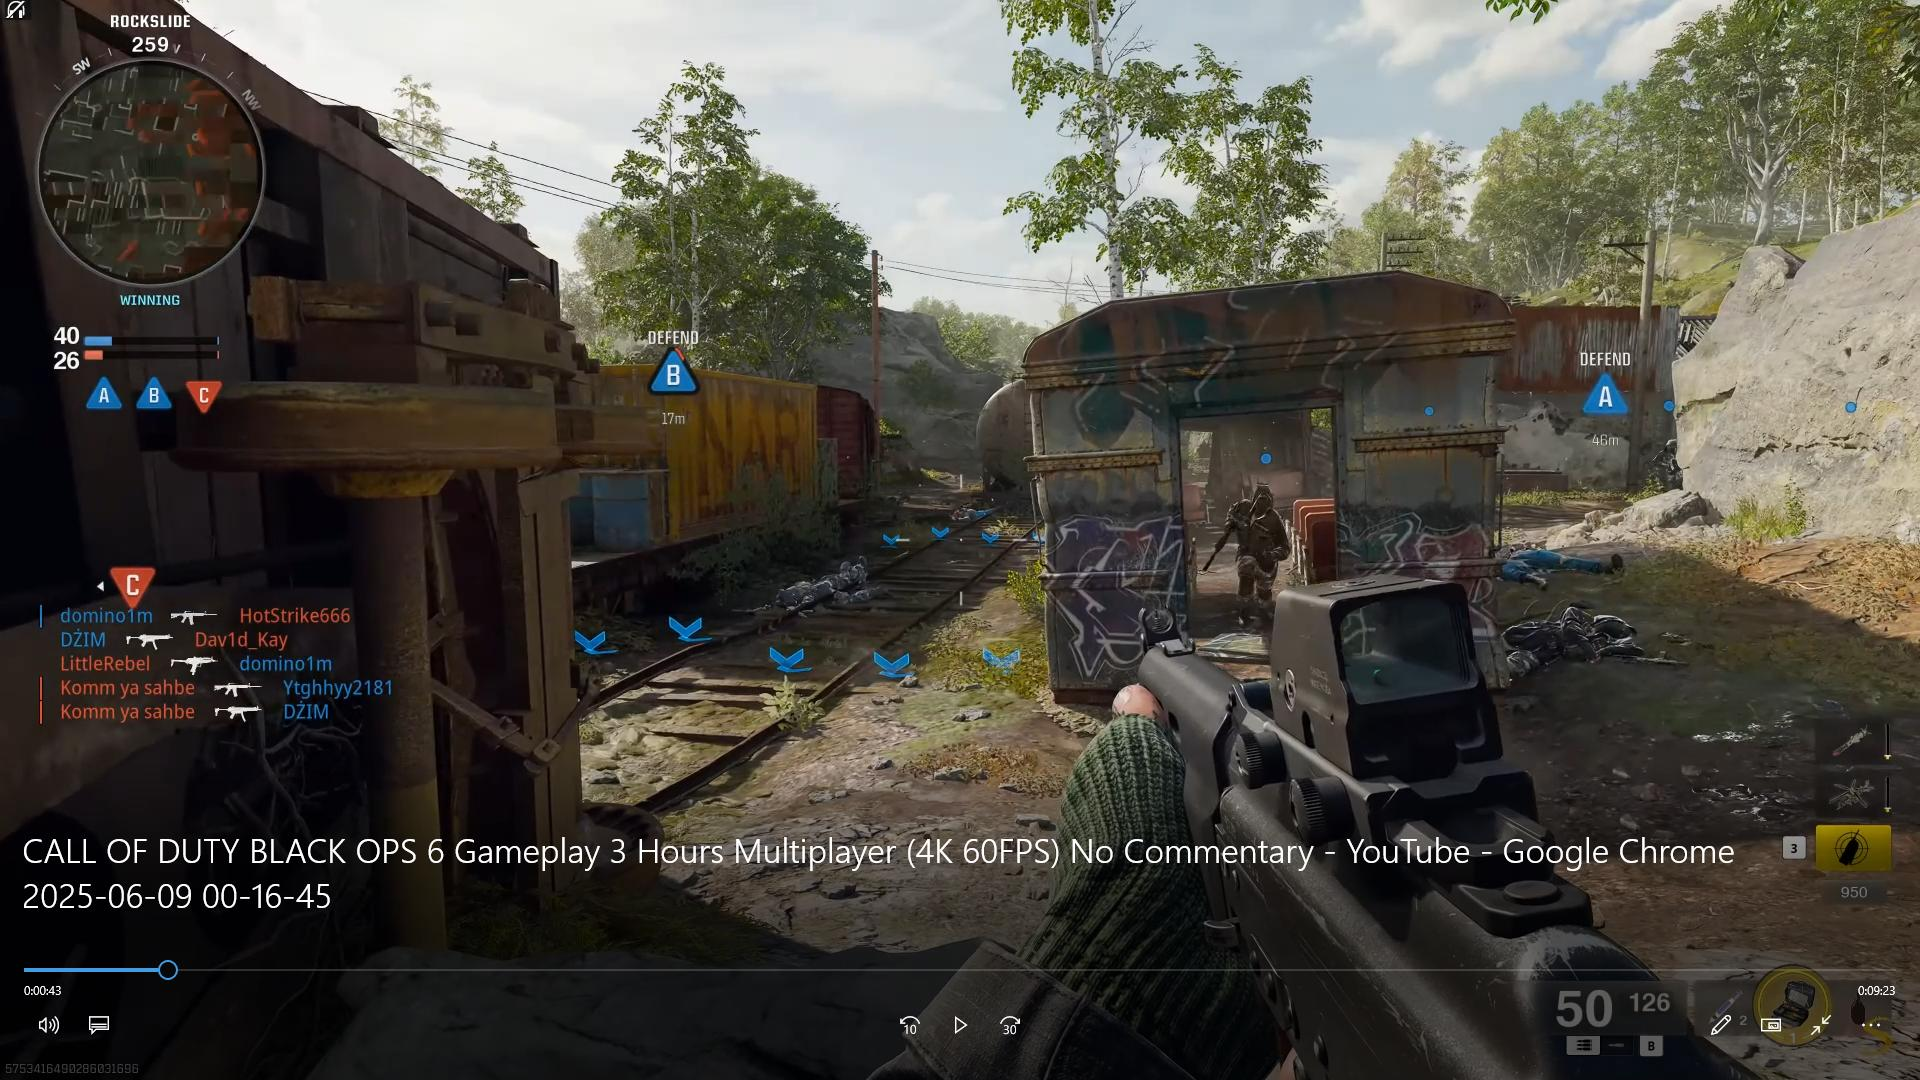Enemy: (1221, 472, 1287, 638)
